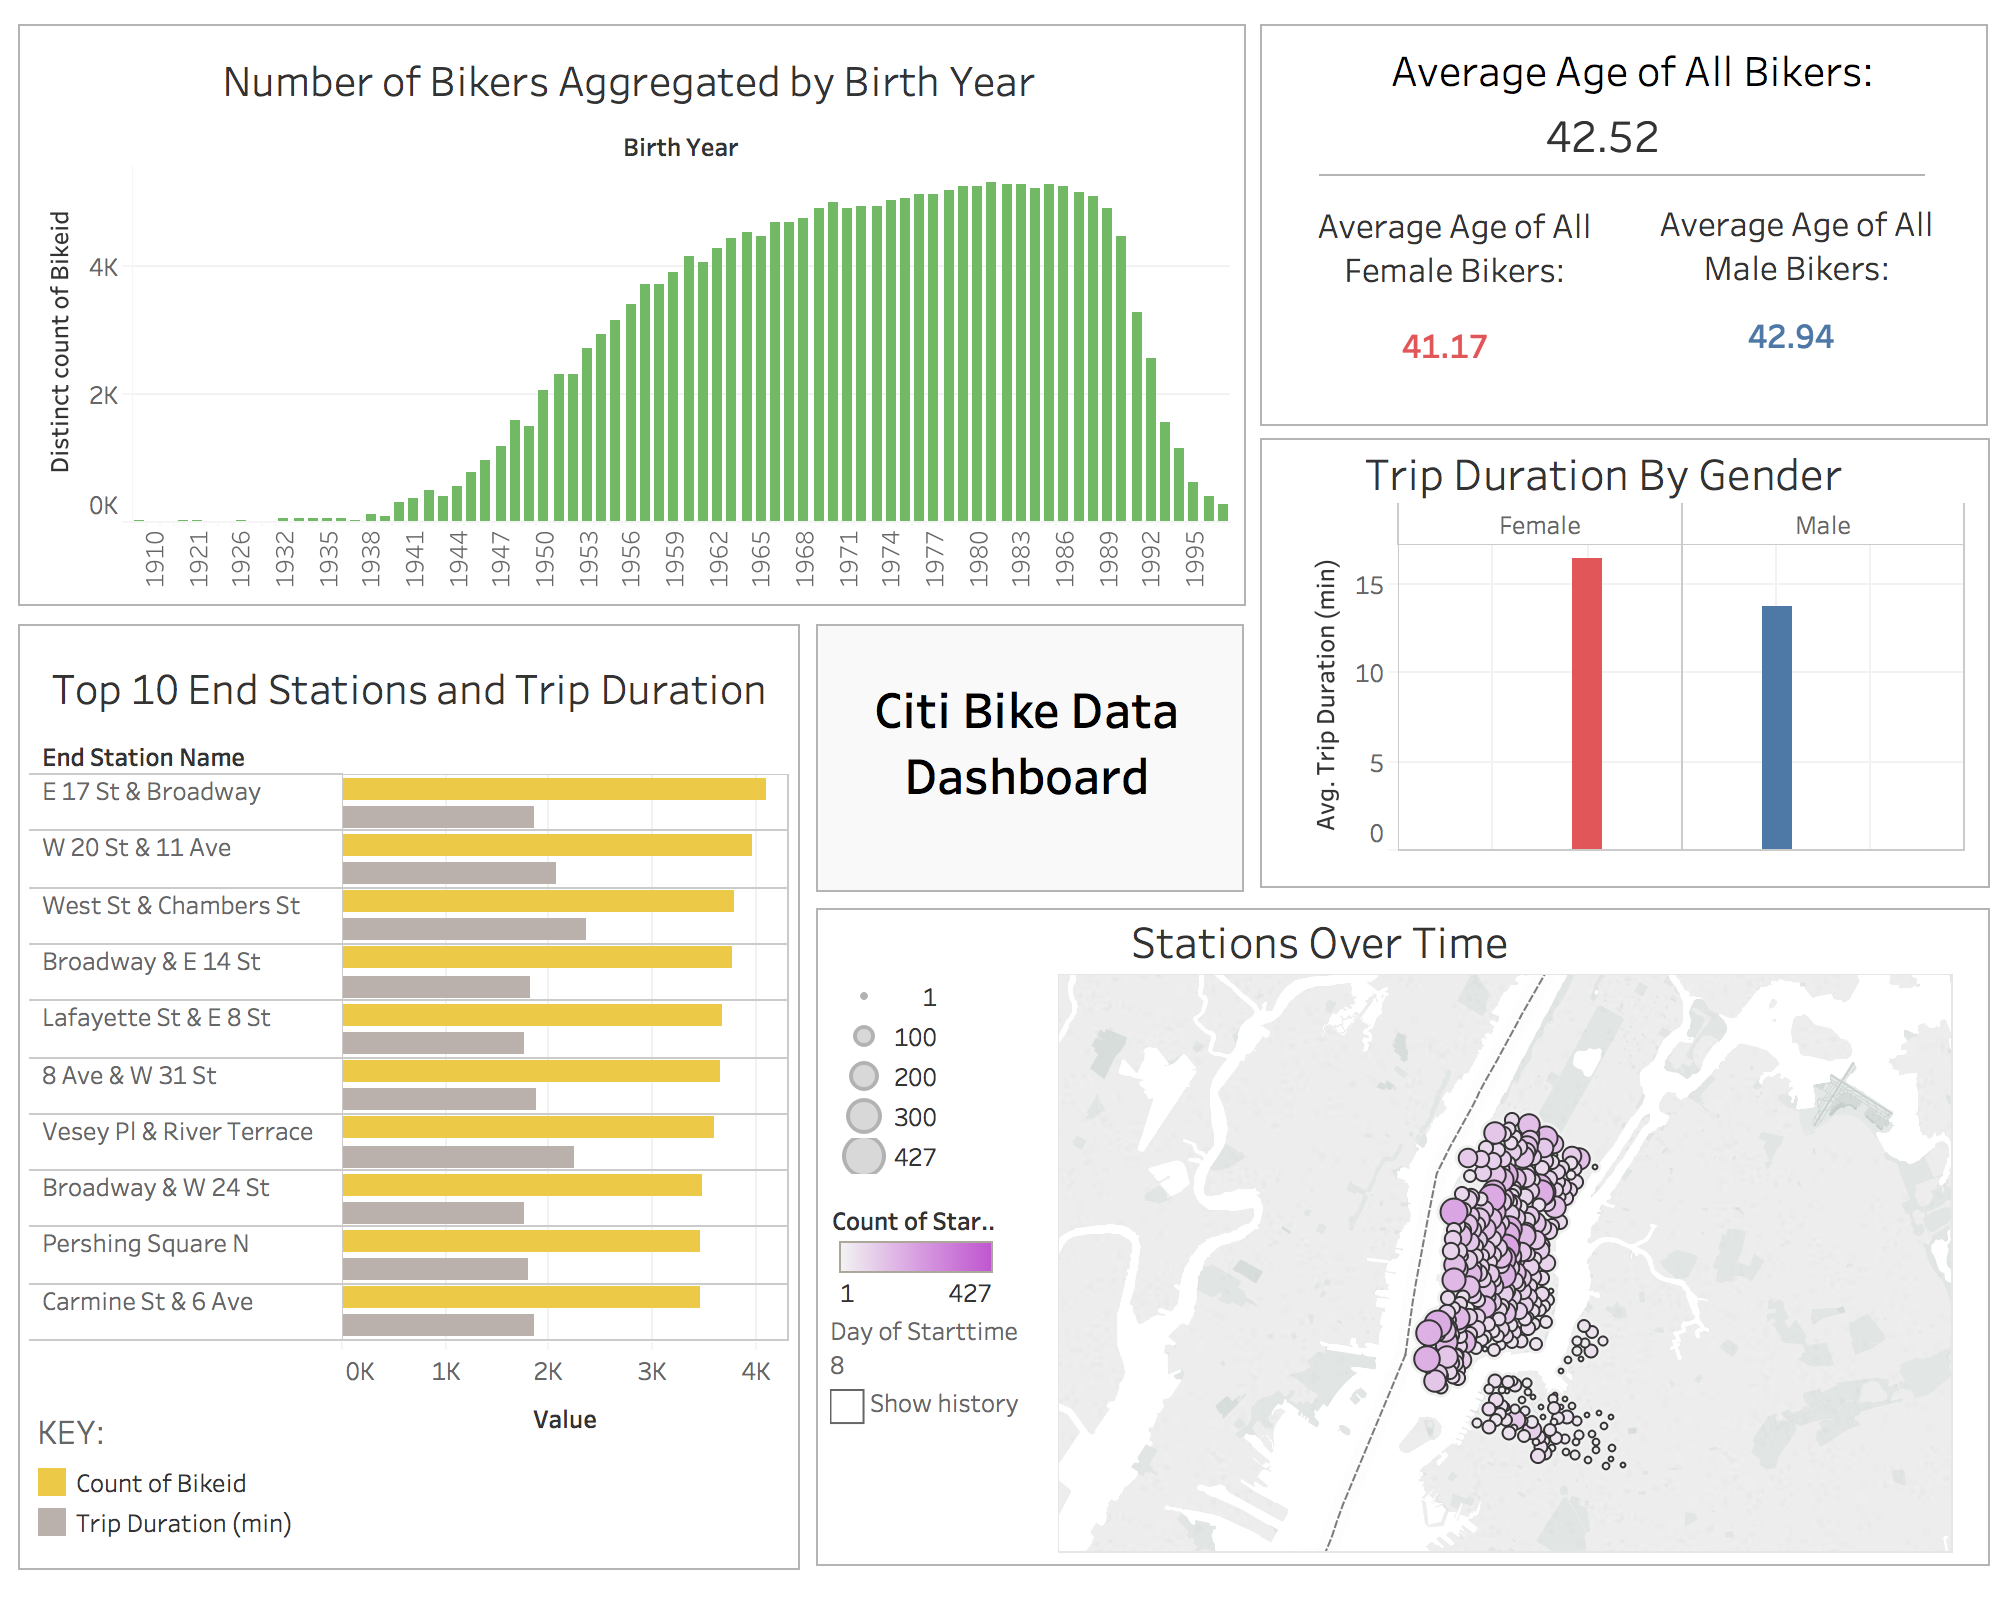

Layout of this report page (visuals, bound fields, positions):
{"tool":"tableau","page":{"name":"Dashboard 1","canvas":[1000,800],"ordinal":0},"visuals":[{"type":"text","box":[9,12,614,291]},{"type":"text","box":[630,12,364,201]},{"type":"text","box":[650,19,333,33]},{"type":"worksheet","title":"Birth Year of Bikers","mark":"Automatic","rows":["bikeid"],"cols":["birth year"],"box":[14,20,601,275]},{"type":"worksheet","title":"Average Age of Bikers","mark":"Automatic","box":[760,41,74,53]},{"type":"text","box":[661,87,300,1]},{"type":"text","box":[643,94,169,60]},{"type":"text","box":[827,100,143,46]},{"type":"worksheet","title":"Average Age of Bikers M","mark":"Automatic","box":[862,143,93,57]},{"type":"worksheet","title":"Average Age of Bikers F","mark":"Automatic","box":[689,148,85,44]},{"type":"text","box":[680,207,283,58]},{"type":"text","box":[630,219,365,225]},{"type":"worksheet","title":"Trip Time by Gender","mark":"Bar","rows":["Calculation_556053846021046277"],"cols":["Gender (copy)","gender"],"box":[647,252,336,174]},{"type":"text","box":[9,312,391,473]},{"type":"blank","box":[408,312,214,134]},{"type":"worksheet","title":"Top 10 Stations","mark":"Automatic","rows":["end station name"],"box":[15,324,380,402]},{"type":"text","box":[434,338,159,66]},{"type":"blank","box":[408,454,587,329]},{"type":"text","box":[528,455,264,30]},{"type":"worksheet","title":"Stations Over Time","mark":"Automatic","rows":["start station latitude"],"cols":["start station longitude"],"box":[529,487,448,290]},{"type":"legend","title":"Stations Over Time","param":"[federated.0wfmsos0cifumd145jvmp0tfvo1m].[cnt:start station name:qk]","box":[418,488,87,164]},{"type":"legend","title":"Stations Over Time","param":"[federated.0wfmsos0cifumd145jvmp0tfvo1m].[cnt:start station name:qk]","box":[416,598,85,94]},{"type":"currpage","title":"Stations Over Time","box":[415,656,100,120]},{"type":"text","box":[16,701,100,30]}]}

Visuals, with their boxes in screenshot pixels (x1, y1, x2, y2), scaled from the page's 1000x800 canvas onto the 2000x1600 screenshot:
text: BBox(18, 24, 1246, 606)
text: BBox(1260, 24, 1988, 426)
text: BBox(1300, 38, 1966, 104)
"Birth Year of Bikers" worksheet: BBox(28, 40, 1230, 590)
"Average Age of Bikers" worksheet: BBox(1520, 82, 1668, 188)
text: BBox(1322, 174, 1922, 176)
text: BBox(1286, 188, 1624, 308)
text: BBox(1654, 200, 1940, 292)
"Average Age of Bikers M" worksheet: BBox(1724, 286, 1910, 400)
"Average Age of Bikers F" worksheet: BBox(1378, 296, 1548, 384)
text: BBox(1360, 414, 1926, 530)
text: BBox(1260, 438, 1990, 888)
"Trip Time by Gender" worksheet (Bar marks): BBox(1294, 504, 1966, 852)
text: BBox(18, 624, 800, 1570)
blank: BBox(816, 624, 1244, 892)
"Top 10 Stations" worksheet: BBox(30, 648, 790, 1452)
text: BBox(868, 676, 1186, 808)
blank: BBox(816, 908, 1990, 1566)
text: BBox(1056, 910, 1584, 970)
"Stations Over Time" worksheet: BBox(1058, 974, 1954, 1554)
"Stations Over Time" legend: BBox(836, 976, 1010, 1304)
"Stations Over Time" legend: BBox(832, 1196, 1002, 1384)
"Stations Over Time" currpage: BBox(830, 1312, 1030, 1552)
text: BBox(32, 1402, 232, 1462)
